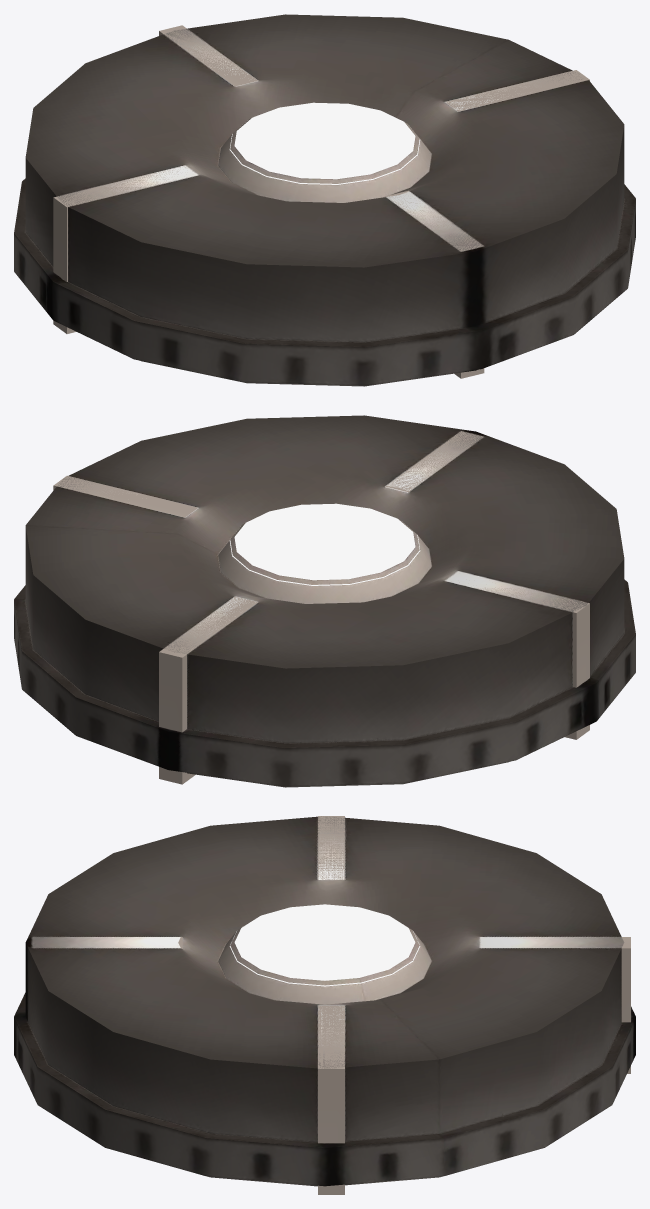
The model's file is Stage-transformed.glb.
3 renders of one model, top to bottom at view 1: azimuth 30°, elevation 25°; view 2: azimuth 150°, elevation 25°; view 3: azimuth 270°, elevation 25°, orthographic.
Parts seen in each view (by area): view 1: stage; view 2: stage; view 3: stage.
Boxes of the visible parts, <box> form: stage: <box>14,14,635,386</box>; stage: <box>14,415,635,787</box>; stage: <box>14,816,635,1194</box>.
Size of the model in its own units: 14.57 by 3.34 by 14.57.
2 materials, 1 textured.
